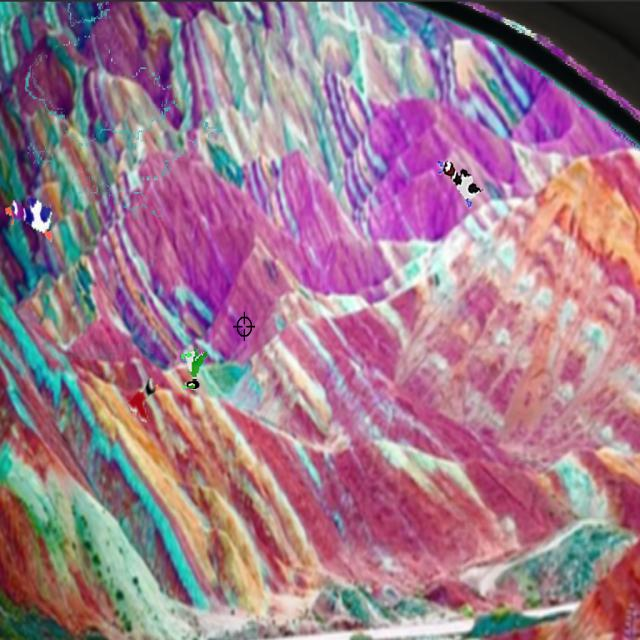duck: (433, 151, 489, 216), (4, 192, 62, 244), (121, 369, 161, 432)
falling_duck: (178, 337, 208, 400)
